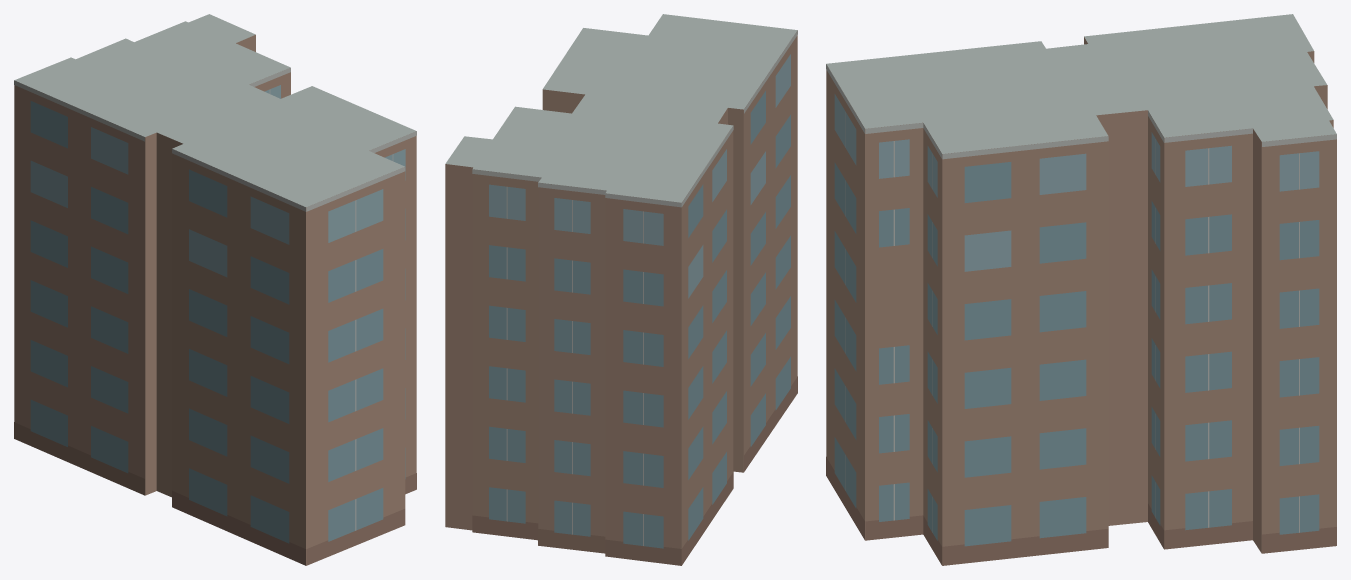
Rendered from survey-upis-32563745.glb.
The picture shows the model from 3 angles, left to right: view 1: azimuth 30°, elevation 25°; view 2: azimuth 150°, elevation 25°; view 3: azimuth 270°, elevation 25°; orthographic projection. The views are drawn at different scales.
Parts seen in each view (by area): view 1: survey-upis-32563745.tmp; view 2: survey-upis-32563745.tmp; view 3: survey-upis-32563745.tmp.
Part boxes in pixels (x1,y1,x2,y2): survey-upis-32563745.tmp: (14, 14, 416, 565); survey-upis-32563745.tmp: (445, 14, 797, 565); survey-upis-32563745.tmp: (826, 14, 1336, 565).
Bounding box in the file's own units: 13.87 × 19 × 21.36.
